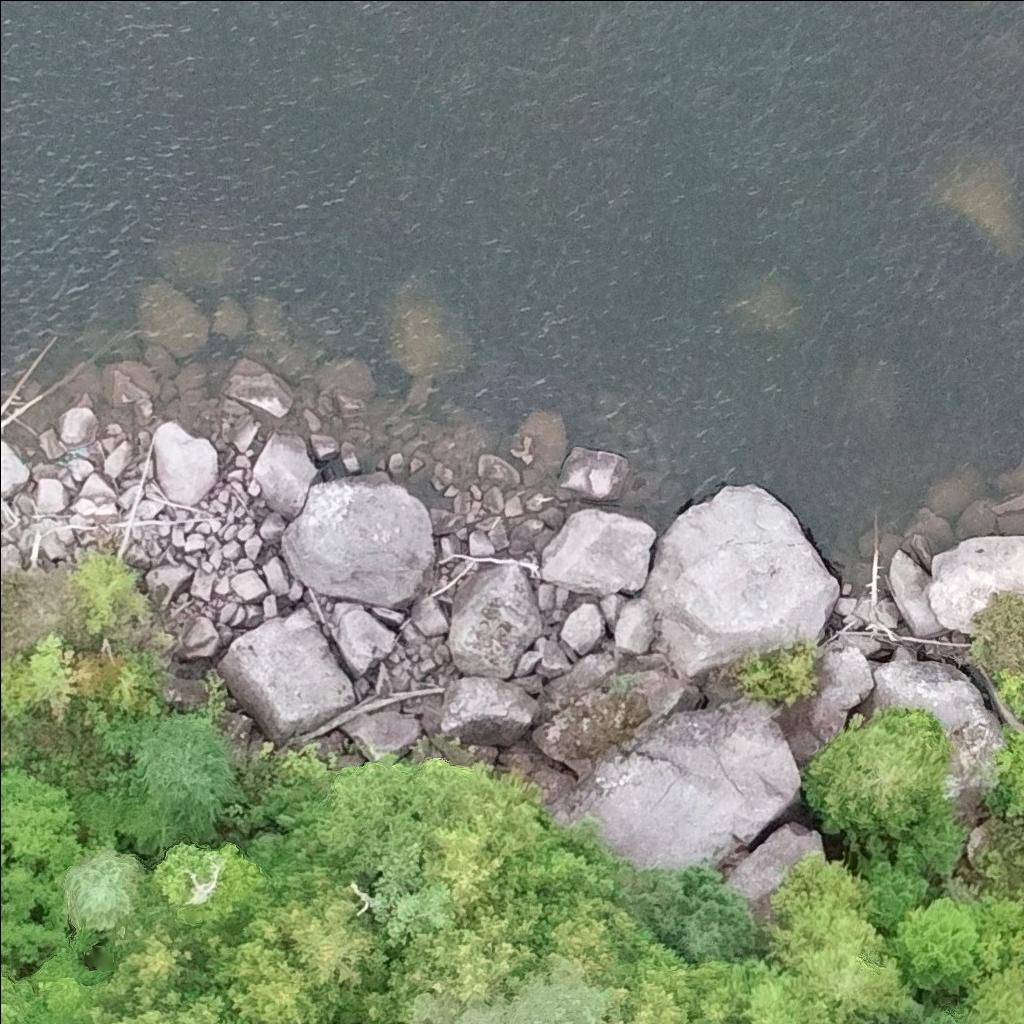crown: (361, 885, 554, 1023), (800, 702, 954, 839), (419, 760, 546, 924), (764, 886, 914, 1023), (244, 883, 394, 996), (123, 707, 240, 839), (534, 887, 657, 985), (203, 934, 333, 1023), (607, 939, 736, 1023), (687, 958, 845, 1023), (155, 843, 267, 928), (890, 897, 989, 992), (504, 951, 612, 1023), (103, 918, 195, 999), (62, 847, 148, 933), (80, 982, 188, 1023), (410, 988, 506, 1023), (175, 982, 248, 1023), (0, 969, 38, 1023)
